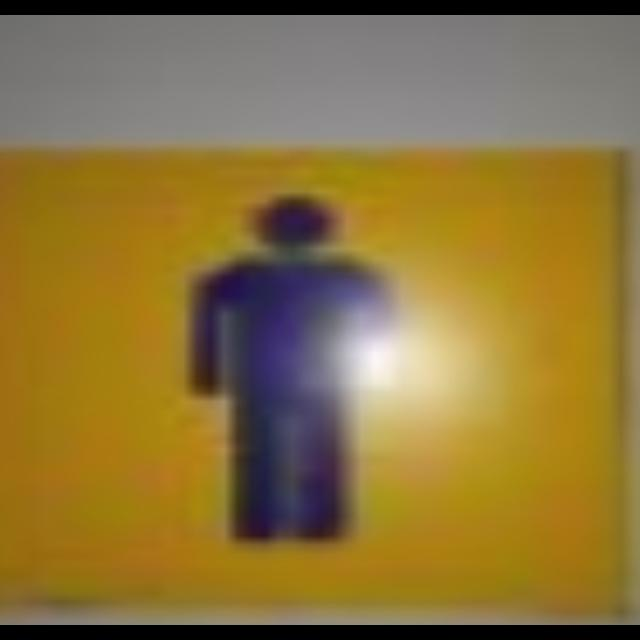wc nam: (0, 151, 630, 615)
